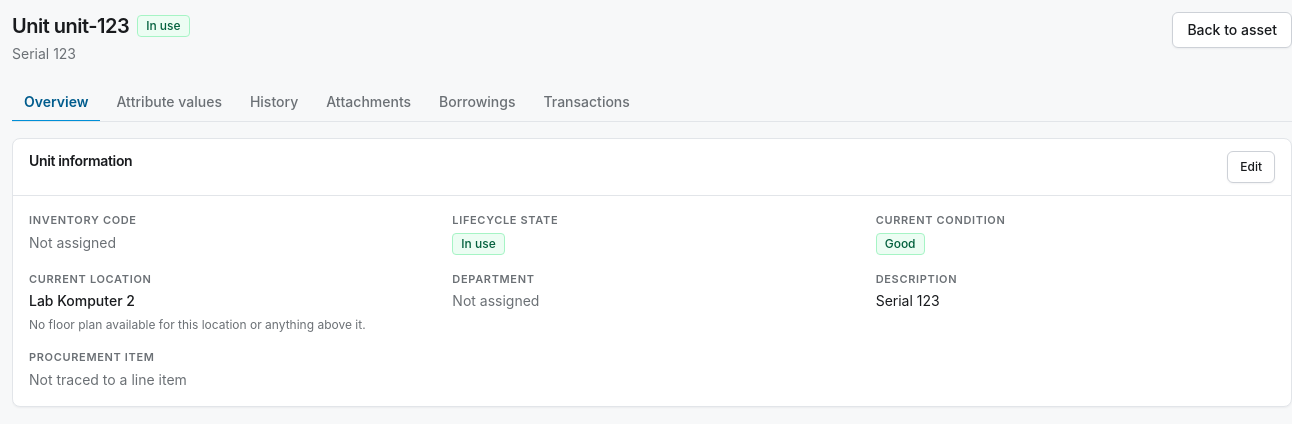
it: AssetUnitDetailPage › labels a SYSTEM placement row, which carries no condition
The width and height of the screenshot is (1292, 424).
Step 1. Click the tab "History" → (274, 103), box [238,84,310,122]
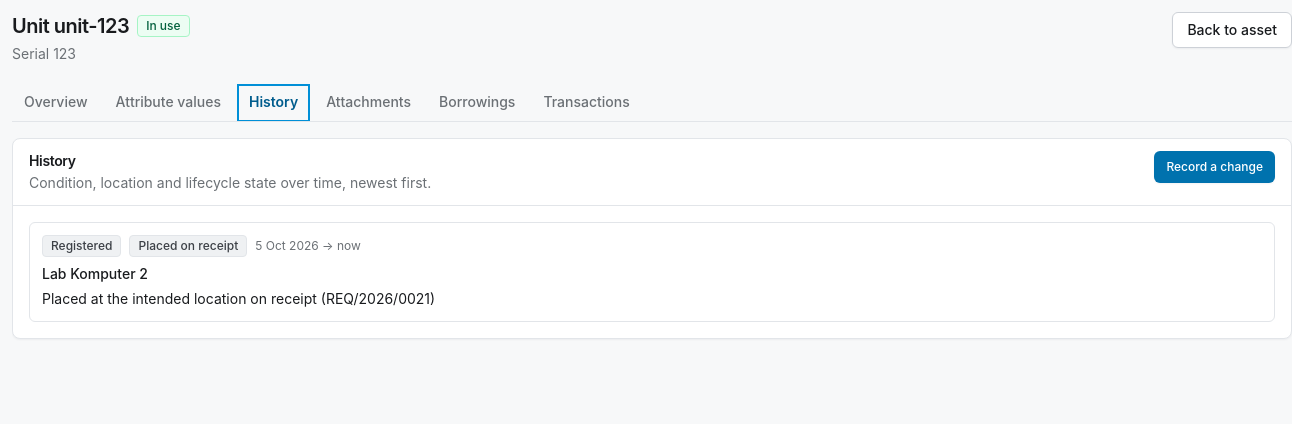
Expected: the text "Placed on receipt" is shown, [130,235,247,257]
Expected: the text "Placed at the intended location on receipt (REQ/2026/0021)" is shown, [42,290,435,307]
